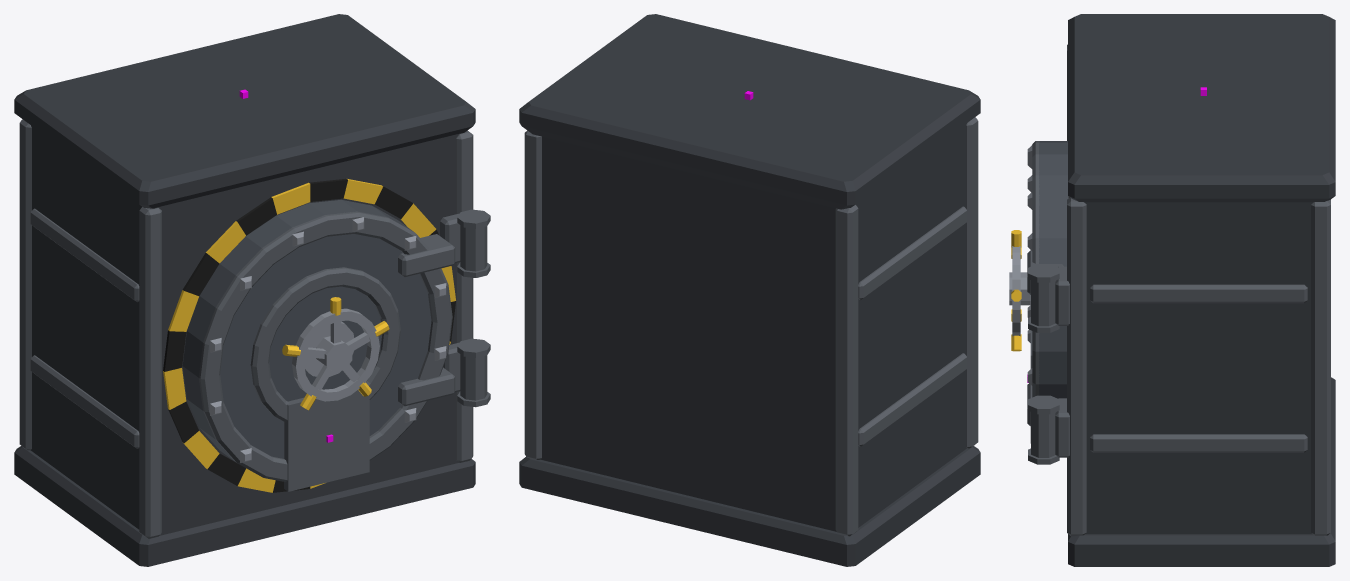
Rendered from VLT_Lvl3.fbx.
3 views of the same model, side by side, from view 1: azimuth 30°, elevation 25°; view 2: azimuth 150°, elevation 25°; view 3: azimuth 270°, elevation 25° (orthographic).
Parts seen in each view (by area): view 1: Body, DoorFrame, Door, Trim, Hazard_Yellow, Wheel, Hazard_Black, DoorStuds, WheelGrips; view 2: Body, Trim; view 3: Body, Trim, Door, DoorFrame, Wheel, WheelGrips, DoorStuds.
Boxes of the visible parts, x1,y1,x2,y2 form: Body: (14, 14, 475, 566); DoorFrame: (199, 211, 455, 491); Door: (182, 199, 431, 460); Trim: (19, 119, 490, 538); Hazard_Yellow: (163, 179, 455, 492); Wheel: (292, 308, 379, 401); Hazard_Black: (163, 178, 455, 492); DoorStuds: (210, 217, 446, 462); WheelGrips: (282, 297, 389, 410); Body: (519, 14, 980, 566); Trim: (524, 117, 978, 536); Body: (1068, 14, 1335, 566); Trim: (1028, 44, 1330, 536); Door: (1039, 141, 1068, 398); DoorFrame: (1027, 141, 1063, 443); Wheel: (1009, 246, 1030, 336); WheelGrips: (1011, 230, 1021, 351); DoorStuds: (1027, 145, 1032, 385).
Size of the model in its own units: 12 by 13.2 by 9.9.
